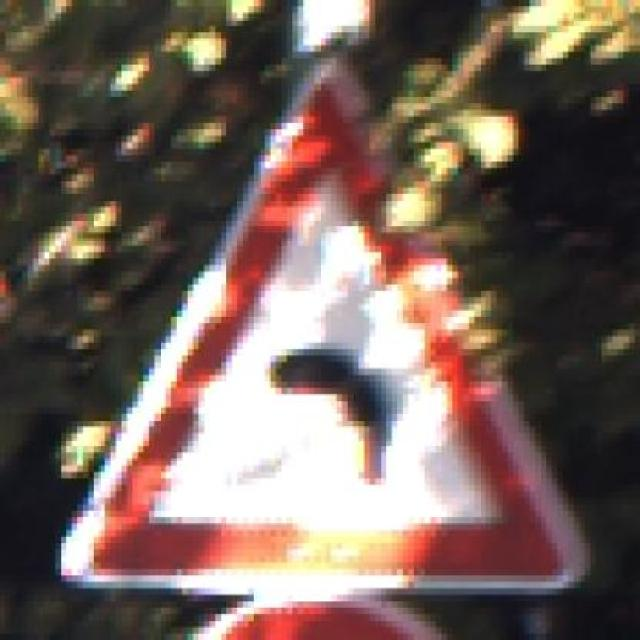Dangerous Left Curve Ahead: (62, 54, 593, 604)
